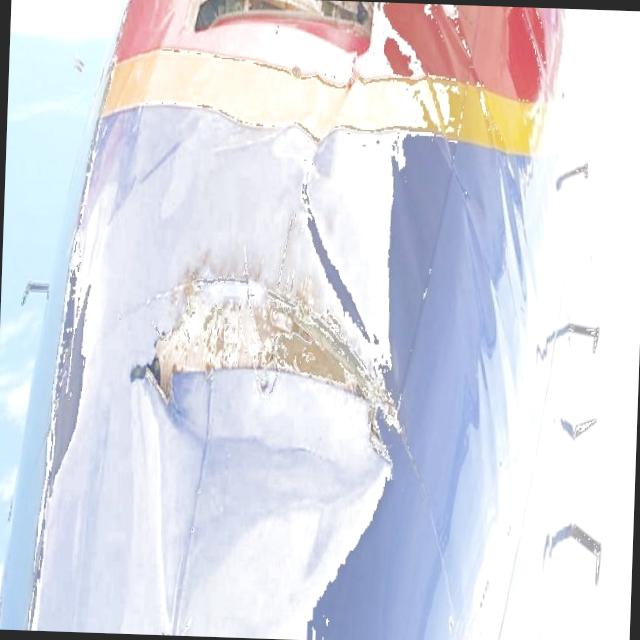crack: (137, 244, 416, 479)
